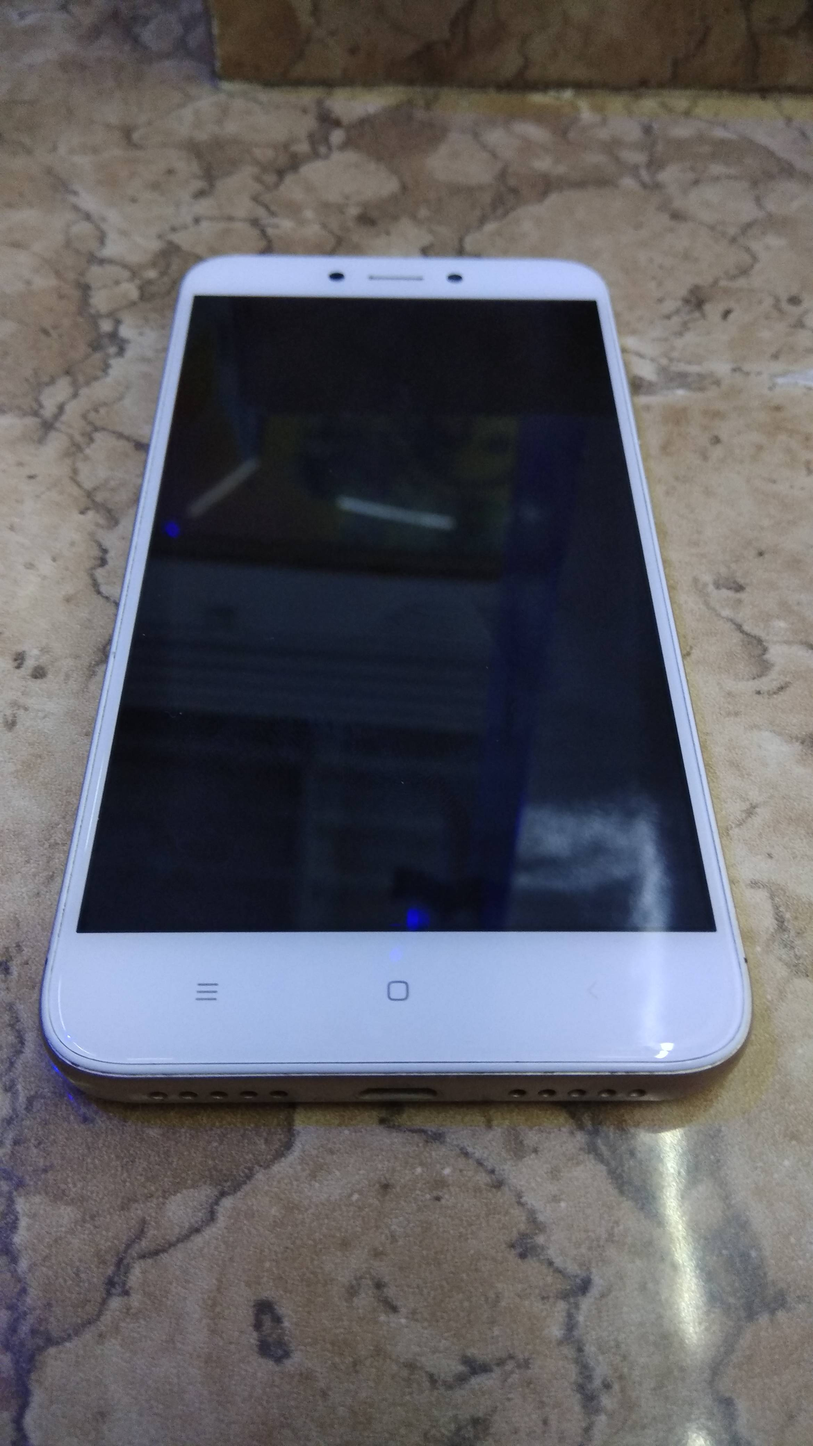Electronics: (30, 218, 771, 1156)
